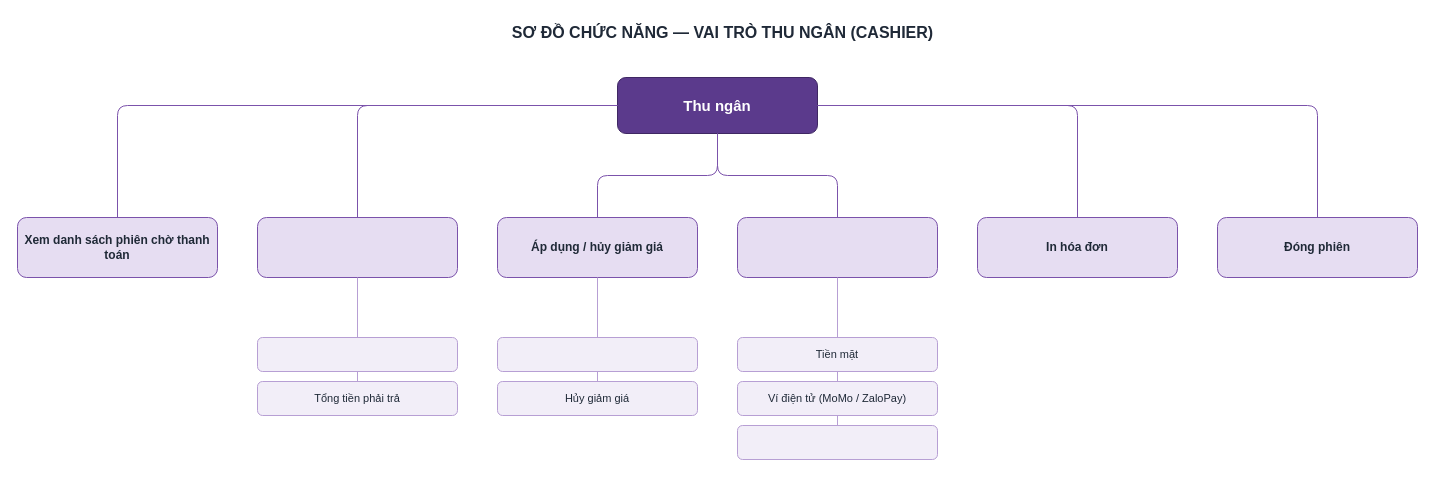
The diagram is 1445 pixels wide and 477 high, and some of its shapes have lost their labels. The centre of each missing label's shape, as x and y in pixels:
Danh sách món đã đặt: (357,354)
Nhập code giảm giá: (597,354)
Thanh toán: (837,247)
Xem hóa đơn: (357,247)
Xác nhận đã thu tiền: (837,442)
